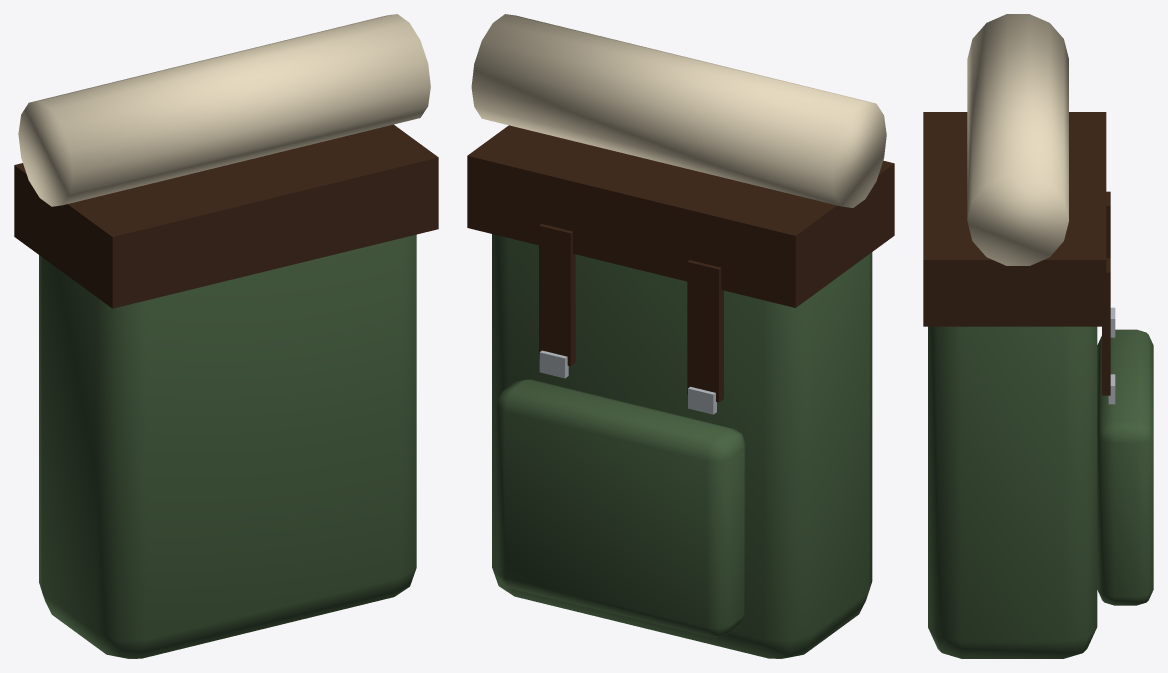
Rendered from backpack.glb.
3 views of the same model, side by side, from view 1: azimuth 30°, elevation 25°; view 2: azimuth 150°, elevation 25°; view 3: azimuth 270°, elevation 25° (orthographic). The views are drawn at different scales.
Visible parts, largest first — view 1: backpack; view 2: backpack; view 3: backpack.
Part boxes in pixels (bbox=[...]): backpack: bbox=[14, 14, 438, 658]; backpack: bbox=[467, 14, 894, 658]; backpack: bbox=[923, 14, 1153, 658].
Bounding box in the file's own units: 0.3401 × 0.4939 × 0.204.
